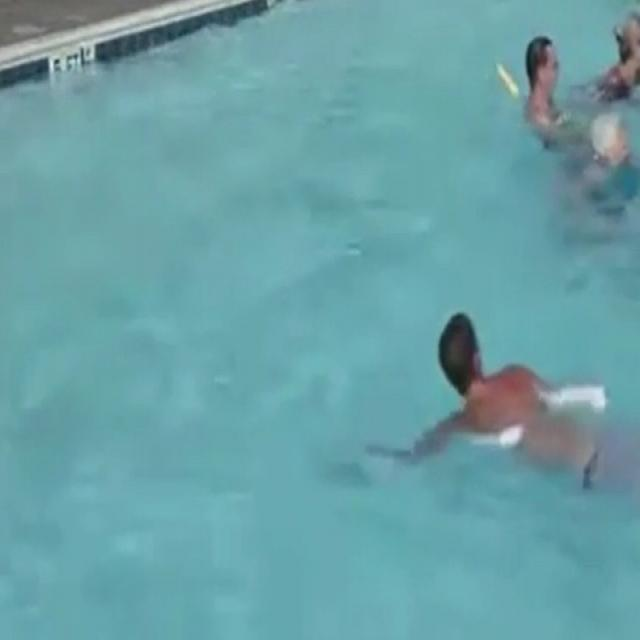swimming: (337, 304, 640, 506), (470, 6, 640, 227)
